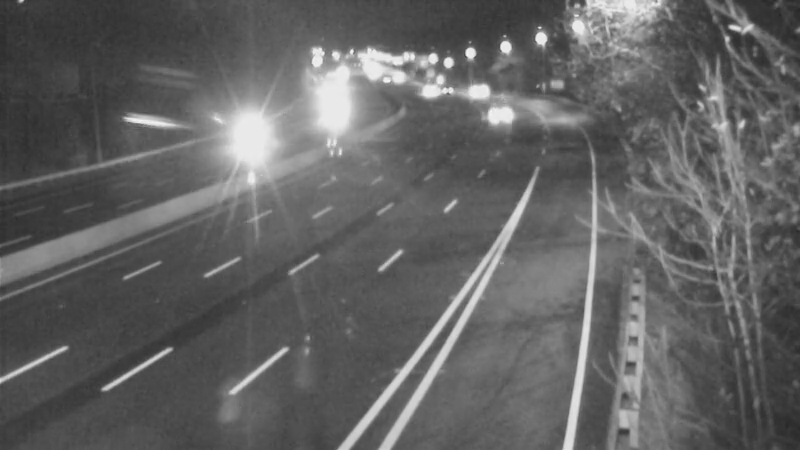vehicle: (394, 66, 444, 116), (427, 65, 477, 115), (451, 70, 501, 120), (470, 90, 520, 140), (226, 111, 276, 161)
